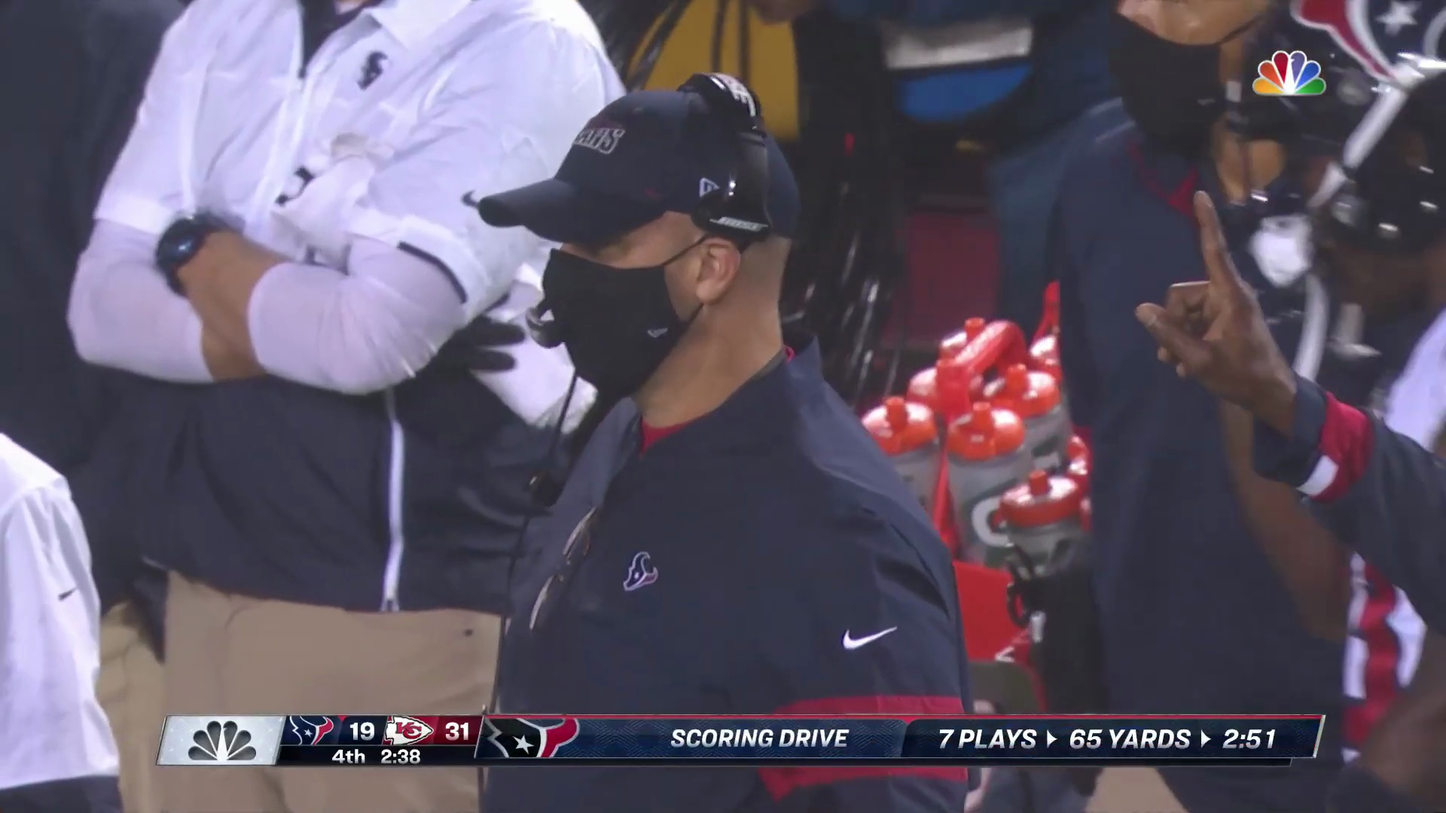Player: (0, 404, 114, 789)
